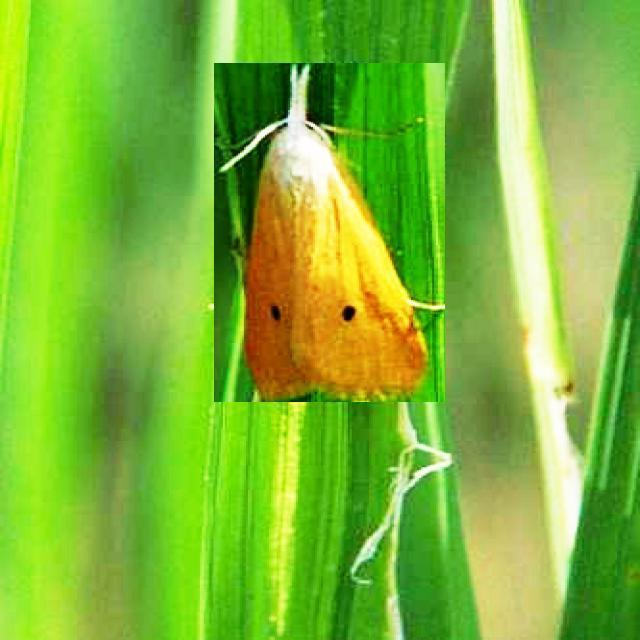stem-borer: (214, 63, 445, 402)
